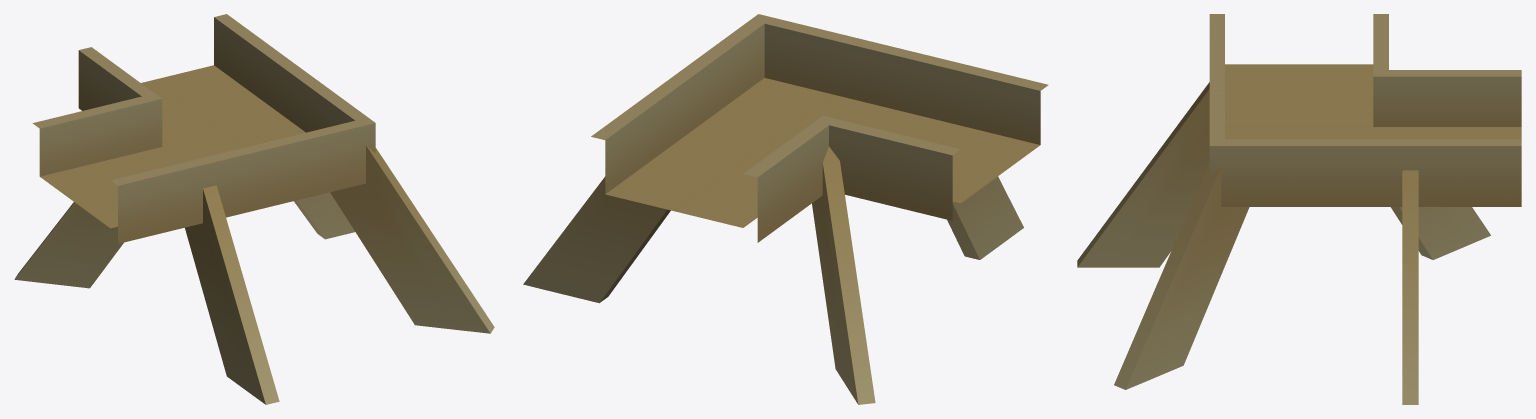
Rendered from aquaduct3.glb.
3 views of the same model, side by side, from view 1: azimuth 30°, elevation 25°; view 2: azimuth 150°, elevation 25°; view 3: azimuth 270°, elevation 25° (orthographic). The views are drawn at different scales.
Parts seen in each view (by area): view 1: Aquaduct3; view 2: Aquaduct3; view 3: Aquaduct3.
Part boxes in pixels (x1,y1,x2,y2): Aquaduct3: (14, 14, 494, 404); Aquaduct3: (523, 14, 1048, 404); Aquaduct3: (1077, 14, 1521, 404).
Size of the model in its own units: 2 by 1.01 by 2.
Materials: 1 (1 with a texture image).
